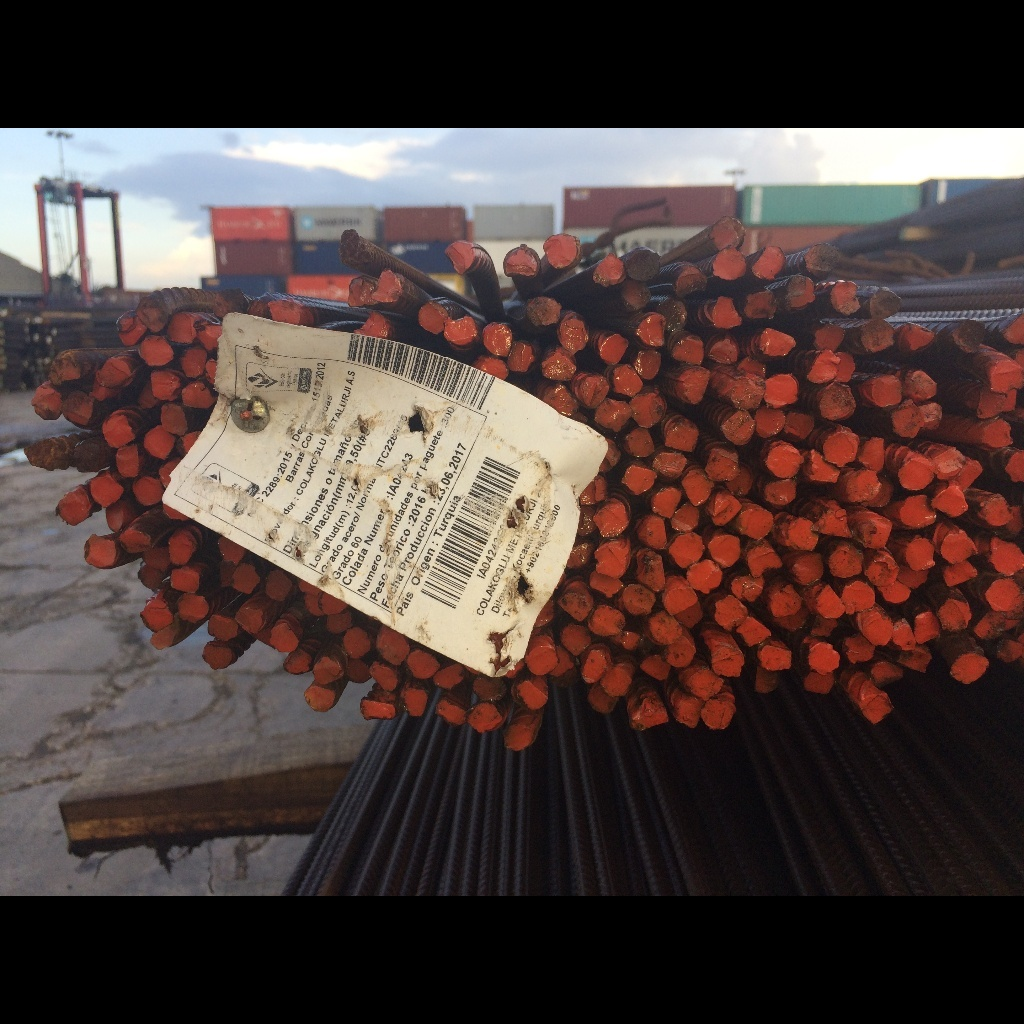dipstick: (664, 587, 704, 627), (854, 609, 893, 646), (950, 648, 989, 684), (823, 430, 860, 467), (854, 512, 891, 549), (56, 486, 90, 526), (544, 233, 580, 270), (592, 501, 629, 537), (669, 533, 705, 570), (783, 515, 818, 553), (984, 576, 1022, 611), (855, 692, 896, 724), (819, 383, 854, 420), (594, 541, 628, 579), (891, 400, 924, 439), (630, 393, 665, 429), (729, 374, 765, 409), (845, 469, 880, 505), (899, 456, 934, 492), (859, 320, 895, 355), (766, 445, 803, 479), (630, 701, 669, 733), (828, 544, 863, 579), (49, 346, 83, 382), (710, 642, 744, 678), (932, 484, 968, 518), (988, 358, 1024, 392), (683, 670, 723, 700), (592, 254, 626, 289), (687, 560, 722, 594), (97, 358, 133, 391), (590, 605, 626, 638), (84, 533, 117, 569), (714, 596, 747, 632), (938, 596, 969, 634), (941, 528, 975, 562), (752, 247, 787, 280), (101, 416, 137, 448), (62, 390, 94, 426), (954, 316, 984, 354), (149, 368, 182, 402), (525, 643, 558, 677), (869, 374, 902, 408), (515, 680, 550, 712), (766, 373, 798, 408), (739, 508, 774, 540), (841, 580, 876, 612), (868, 289, 903, 321), (747, 546, 783, 577), (681, 368, 711, 405), (830, 281, 860, 318), (502, 248, 540, 277), (756, 331, 794, 360), (91, 475, 124, 508), (624, 584, 657, 617), (139, 598, 172, 631), (708, 534, 741, 567), (790, 552, 823, 585), (433, 695, 466, 728), (982, 494, 1015, 527), (579, 373, 611, 407), (665, 422, 699, 454), (417, 302, 451, 334), (706, 449, 740, 481), (647, 614, 681, 646), (808, 640, 840, 674), (865, 554, 899, 586), (31, 385, 62, 420), (558, 319, 589, 354), (558, 590, 593, 621), (483, 321, 513, 357), (714, 249, 747, 281), (721, 411, 753, 444), (662, 635, 695, 667), (140, 335, 174, 366), (770, 583, 801, 617), (702, 699, 736, 730), (468, 703, 503, 733), (912, 610, 942, 645), (627, 250, 659, 282), (407, 649, 438, 682), (905, 538, 936, 571), (138, 298, 168, 332), (443, 316, 478, 345), (542, 353, 577, 382), (713, 295, 742, 330), (621, 465, 657, 493), (445, 240, 475, 273), (528, 295, 561, 325), (599, 332, 629, 365), (785, 275, 815, 308), (784, 409, 814, 442), (637, 517, 667, 550), (981, 418, 1014, 448), (176, 595, 210, 624), (671, 336, 705, 365), (637, 314, 666, 347), (372, 270, 401, 303), (168, 311, 196, 345), (360, 696, 396, 722), (613, 366, 643, 397), (625, 427, 655, 458), (601, 667, 631, 698), (814, 322, 845, 352), (710, 494, 739, 526), (903, 321, 935, 350), (160, 403, 188, 436), (808, 350, 836, 383), (653, 452, 686, 480), (732, 574, 765, 602), (738, 618, 771, 646), (684, 469, 710, 504), (651, 486, 680, 517), (401, 687, 430, 718), (313, 657, 343, 686), (232, 564, 261, 594), (134, 477, 164, 506), (756, 407, 785, 437), (343, 627, 371, 658), (759, 646, 792, 672), (265, 571, 292, 602), (181, 347, 207, 379), (201, 645, 233, 671), (271, 624, 299, 653), (171, 568, 200, 596), (119, 315, 146, 345), (115, 447, 141, 478), (893, 618, 916, 653), (167, 533, 191, 566), (583, 648, 606, 682), (304, 686, 335, 711), (237, 607, 265, 634), (209, 616, 238, 642), (120, 530, 151, 554), (709, 341, 738, 365)
